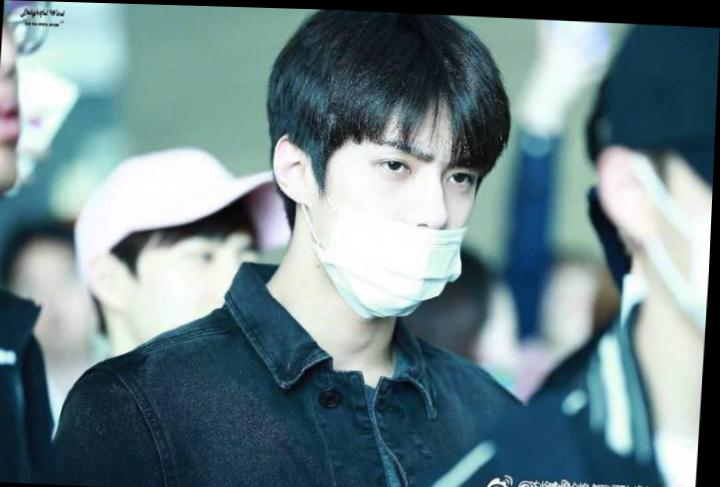NONE: (141, 216, 271, 372)
WRONG: (325, 114, 483, 321)
